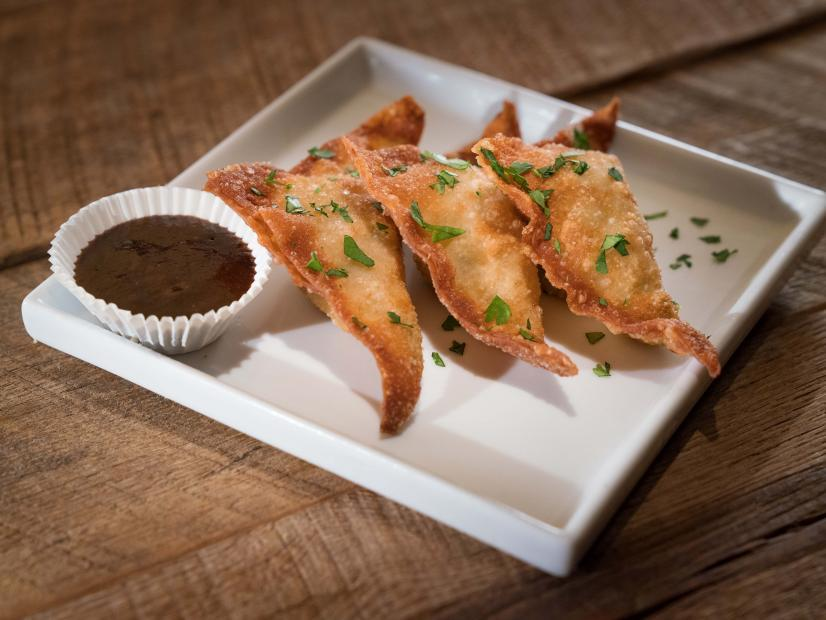samosa: (205, 139, 423, 435), (473, 136, 721, 377), (344, 134, 578, 376), (355, 97, 424, 148)
